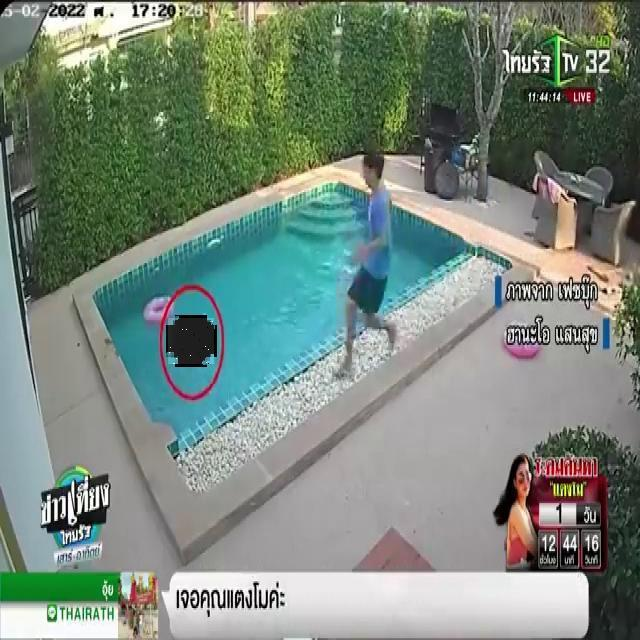Out of Water: (168, 318, 214, 364)
